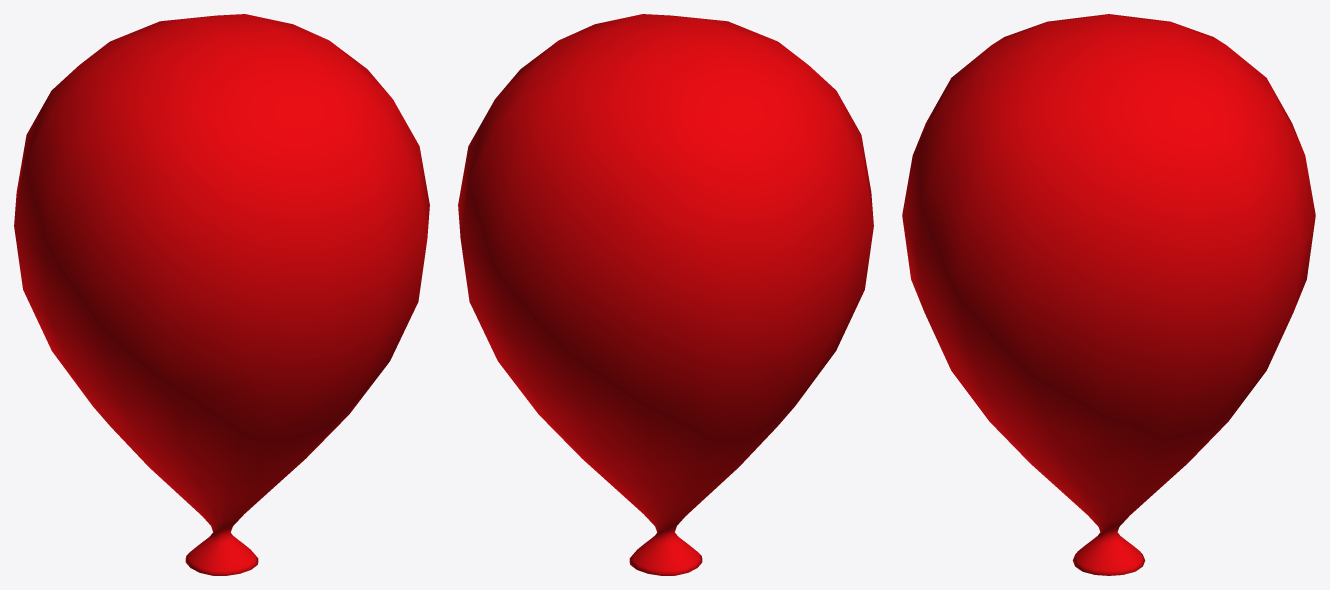
File: balao.fbx
3 views of the same model, side by side, from view 1: azimuth 30°, elevation 25°; view 2: azimuth 150°, elevation 25°; view 3: azimuth 270°, elevation 25° (orthographic).
Visible parts, largest first — view 1: Cube; view 2: Cube; view 3: Cube.
Boxes of the visible parts, x1,y1,x2,y2 form: Cube: [14, 14, 429, 575]; Cube: [458, 14, 873, 575]; Cube: [902, 14, 1315, 575].
Bounding box in the file's own units: 378 × 531 × 378.
